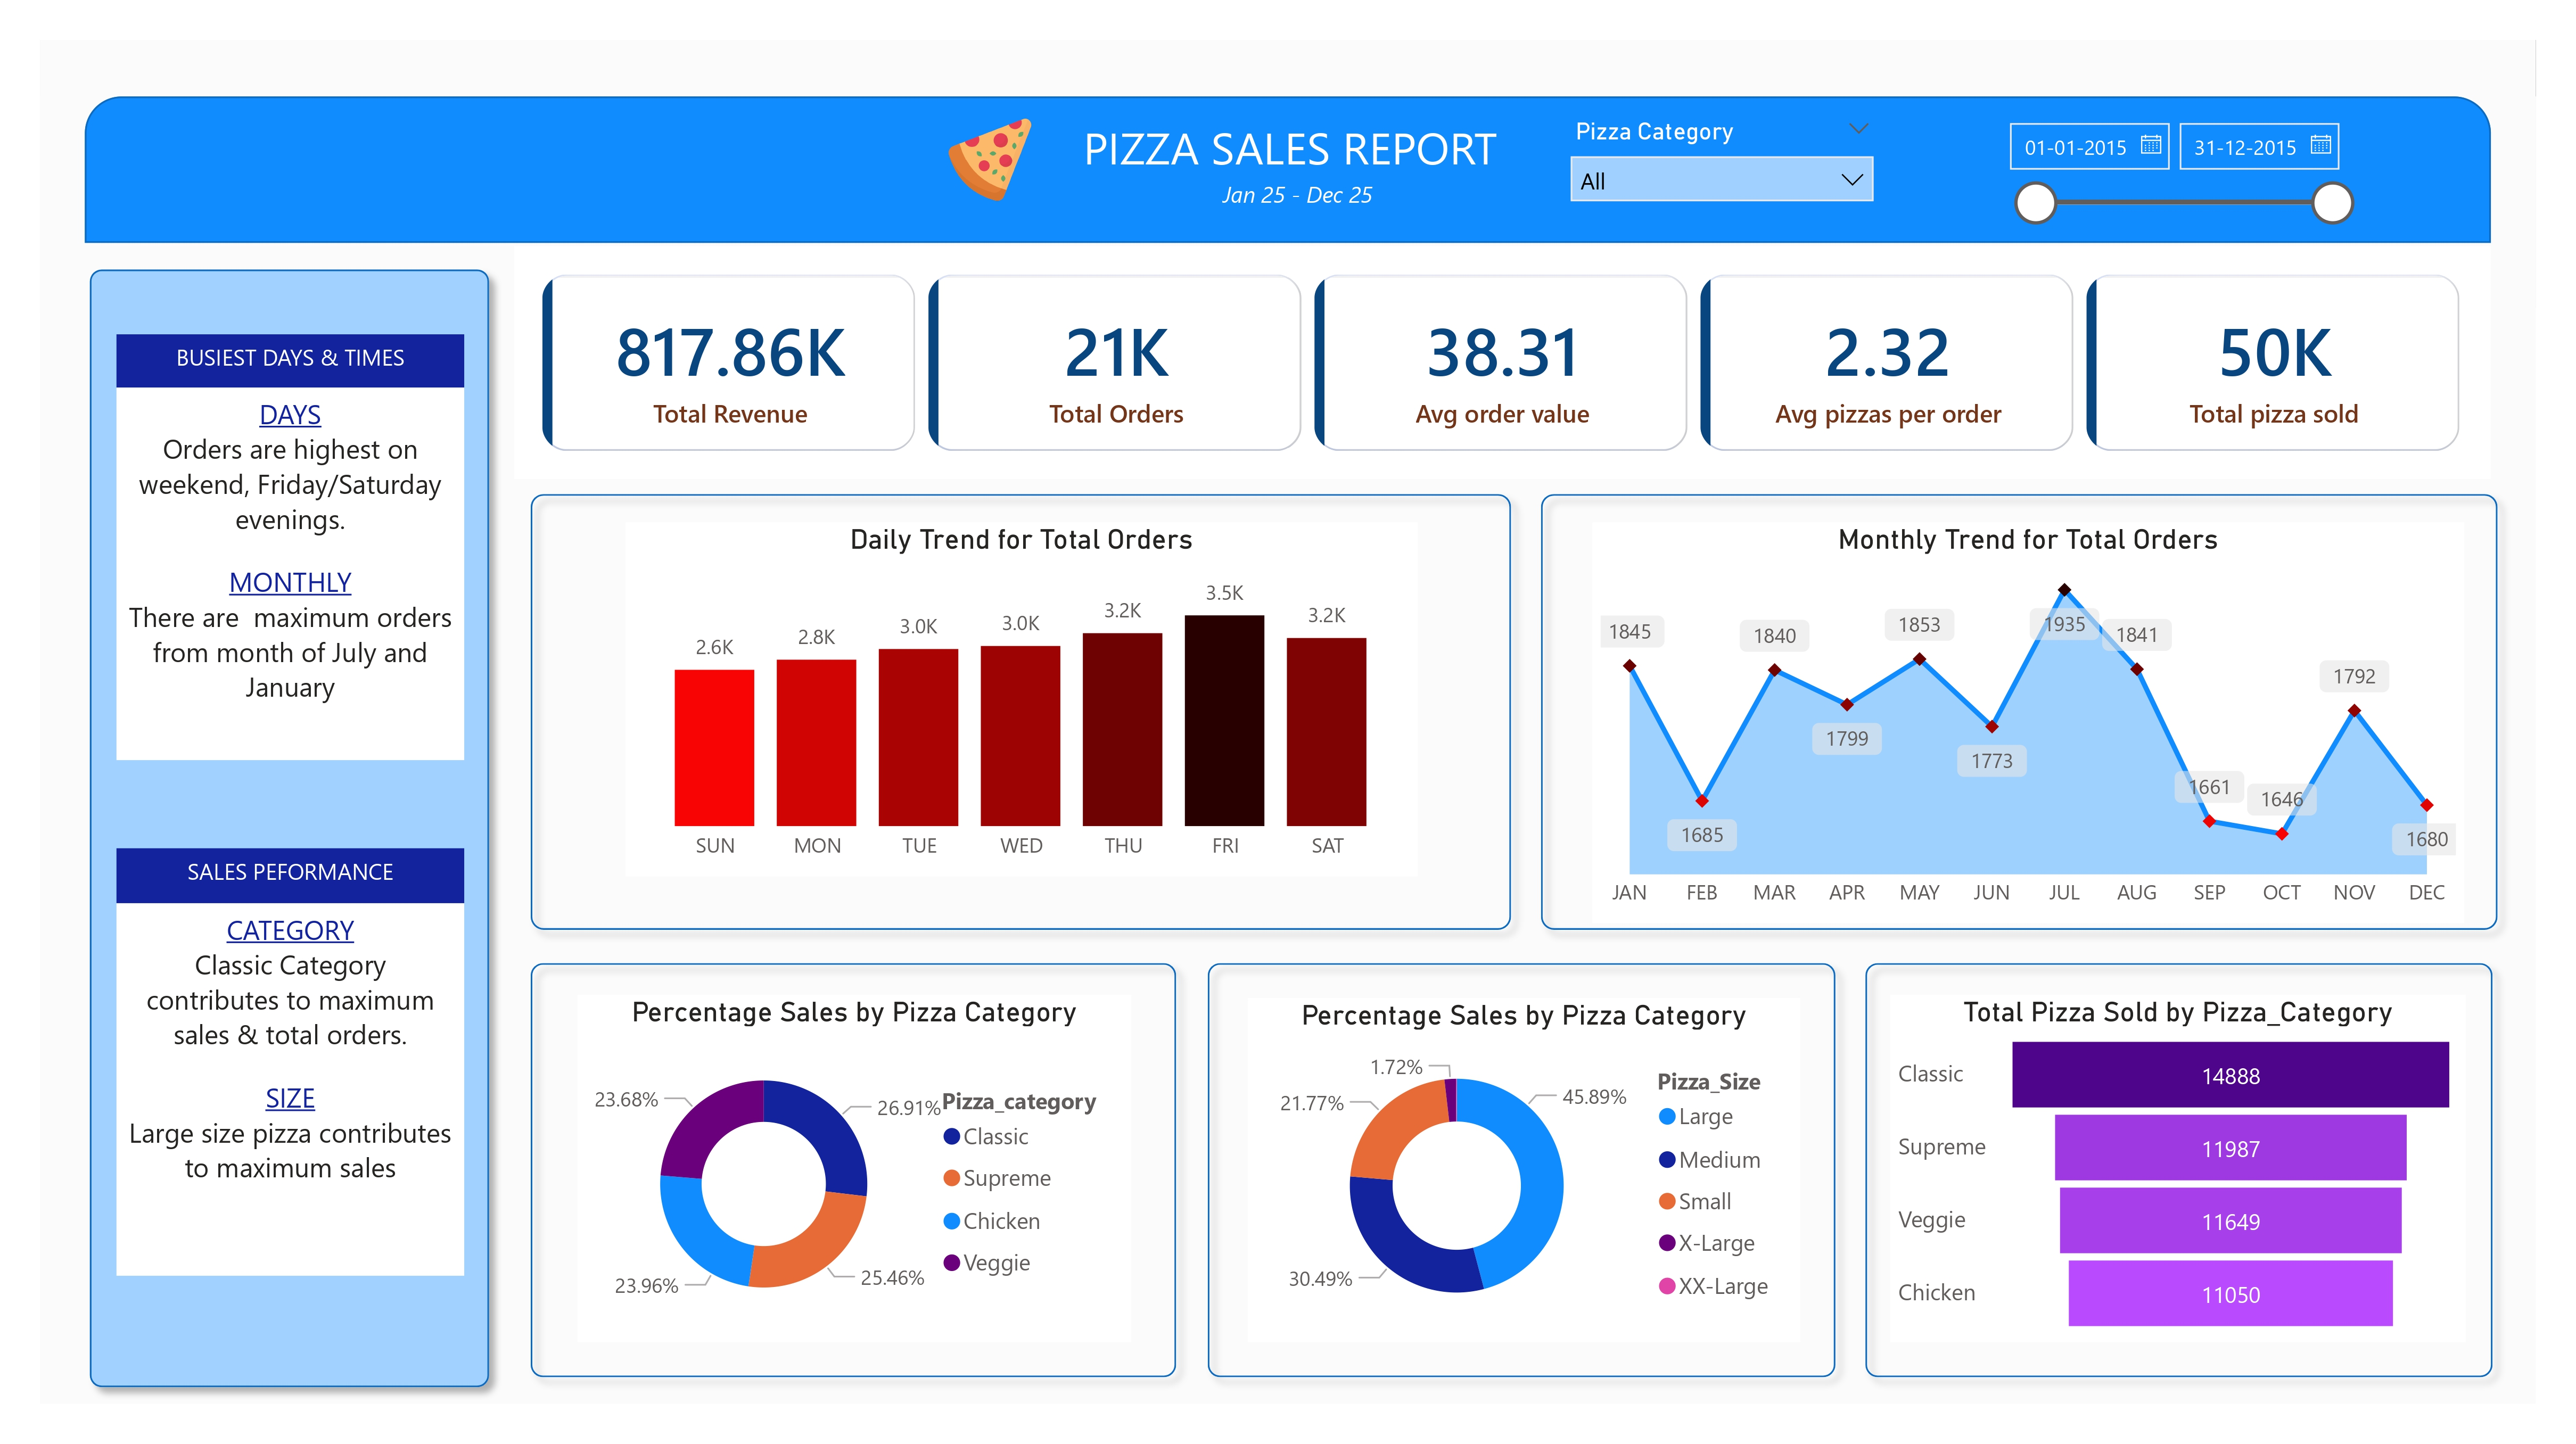

The page's visual inventory and layout, read from the dashboard file:
{"tool":"powerbi","page":{"name":"Page 1","canvas":[1500,820],"ordinal":0},"visuals":[{"type":"cardVisual","fields":{"Data":["pizza_sales.Total Revenue","pizza_sales.Total Orders","pizza_sales.Avg order value","pizza_sales.Avg pizzas per order","pizza_sales.Total pizza sold"]},"box":[285.1,123.5,1187.7,140.6],"z":0},{"type":"shape","box":[26.6,34.2,1446.2,87.4],"z":1000},{"type":"textbox","box":[590.1,40.6,322.7,49.8],"z":2000},{"type":"textbox","box":[693.4,79.3,125.4,36.9],"z":3000},{"type":"image","box":[536.6,46.1,68.2,51.6],"z":4000},{"type":"shape","box":[285.8,263.7,606.7,280.3],"z":5000},{"type":"columnChart","title":"Daily Trend for Total Orders","fields":{"Y":["pizza_sales.Total Orders"],"Category":["pizza_sales.DAY NAME CAPS"]},"box":[352.2,289.5,475.8,213.9],"z":6000},{"type":"shape","box":[892.6,263.7,593.8,280.3],"z":7000},{"type":"areaChart","title":"Monthly Trend for Total Orders","fields":{"Y":["pizza_sales.Total Orders"],"Category":["pizza_sales.Order Month"]},"box":[933.1,289.5,523.7,241.6],"z":8000},{"type":"shape","box":[285.8,545.9,405.7,267.4],"z":9000},{"type":"shape","box":[693.4,545.9,394.6,267.4],"z":10000},{"type":"shape","box":[1088,545.9,394.6,267.4],"z":11000},{"type":"donutChart","title":"Percentage Sales by Pizza Category","fields":{"Y":["pizza_sales.Total Revenue"],"Category":["pizza_sales.pizza_size"]},"box":[725.9,575.8,332.6,207.1],"z":12000},{"type":"donutChart","title":"Percentage Sales by Pizza Category","fields":{"Category":["pizza_sales.pizza_category"],"Y":["pizza_sales.Total Revenue"]},"box":[323.1,573.9,332.6,209],"z":13000},{"type":"funnel","title":"Total Pizza Sold by Pizza_Category","fields":{"Y":["pizza_sales.Total pizza sold"],"Category":["pizza_sales.pizza_category"]},"box":[1111.7,573.9,345.9,209],"z":14000},{"type":"shape","box":[20.9,129.2,258.4,689.8],"z":15000},{"type":"textbox","box":[45.6,176.7,209,32.3],"z":16000},{"type":"textbox","box":[45.6,209,209,224.2],"z":17000},{"type":"textbox","box":[45.6,518.8,209,224.2],"z":18000},{"type":"textbox","box":[45.6,486.5,209,32.3],"z":19000},{"type":"slicer","fields":{"Values":["pizza_sales.order_date"]},"box":[1170.6,39.9,228,74.1],"z":20000},{"type":"slicer","fields":{"Values":["pizza_sales.pizza_category"]},"box":[910.3,41.8,201.4,74.1],"z":21000}]}

Visuals, with their boxes on the page's 1500x820 design canvas (x1, y1, x2, y2). These are canvas units, not pixel positions in the 2576x1444 screenshot, which may show the page scaled, cropped or inside an application window:
cardVisual - pizza_sales.Total Revenue x pizza_sales.Total Orders: l=285, t=124, r=1473, b=264
shape: l=27, t=34, r=1473, b=122
textbox: l=590, t=41, r=913, b=90
textbox: l=693, t=79, r=819, b=116
image: l=537, t=46, r=605, b=98
shape: l=286, t=264, r=892, b=544
"Daily Trend for Total Orders" columnChart: l=352, t=290, r=828, b=503
shape: l=893, t=264, r=1486, b=544
"Monthly Trend for Total Orders" areaChart: l=933, t=290, r=1457, b=531
shape: l=286, t=546, r=692, b=813
shape: l=693, t=546, r=1088, b=813
shape: l=1088, t=546, r=1483, b=813
"Percentage Sales by Pizza Category" donutChart: l=726, t=576, r=1058, b=783
"Percentage Sales by Pizza Category" donutChart: l=323, t=574, r=656, b=783
"Total Pizza Sold by Pizza_Category" funnel: l=1112, t=574, r=1458, b=783
shape: l=21, t=129, r=279, b=819
textbox: l=46, t=177, r=255, b=209
textbox: l=46, t=209, r=255, b=433
textbox: l=46, t=519, r=255, b=743
textbox: l=46, t=486, r=255, b=519
slicer - pizza_sales.order_date: l=1171, t=40, r=1399, b=114
slicer - pizza_sales.pizza_category: l=910, t=42, r=1112, b=116
